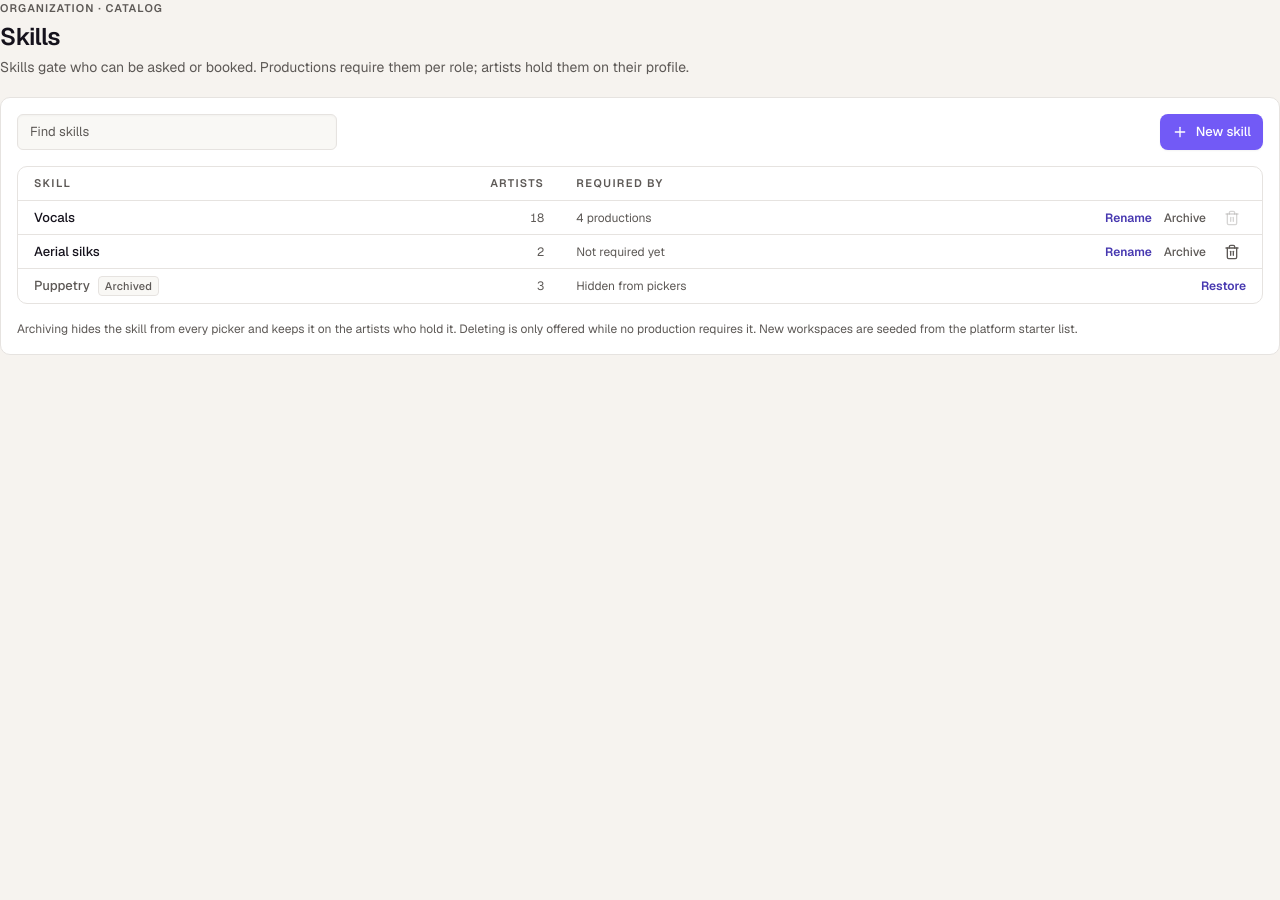
Test: SkillsTab › New skill opens a dialog; submitting a name issues a create and closes it
The image size is (1280, 900).
Step 1. Click the button "New skill" → (1211, 132), box [1160,114,1263,150]
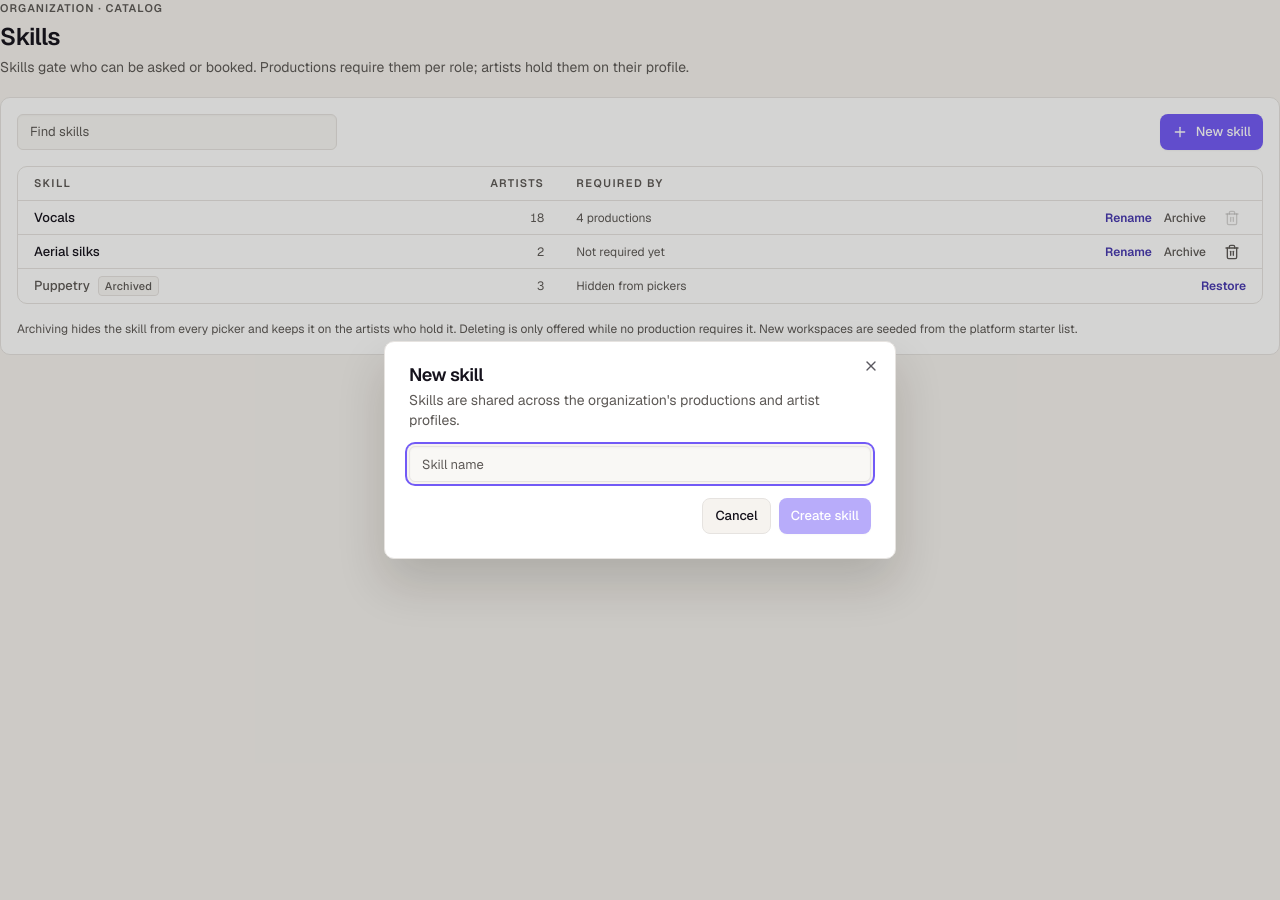
Expected: the heading "New skill" is shown, [409,363,483,386]
Step 2. Type "Stage combat" into the field labelled "Skill name" → (640, 464), box [409,446,871,482]
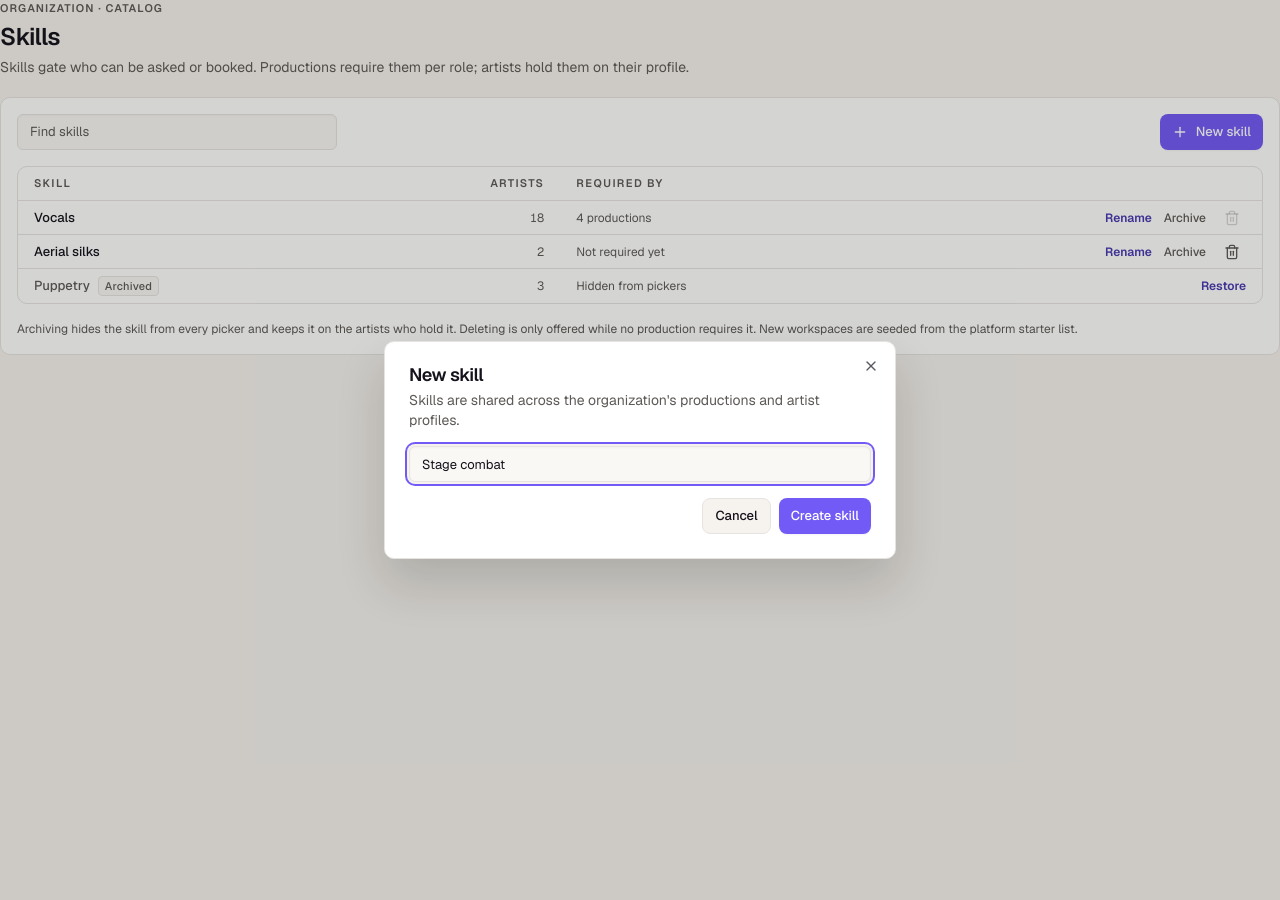
Step 3. Click the button "Create skill" → (825, 516), box [779,498,871,534]
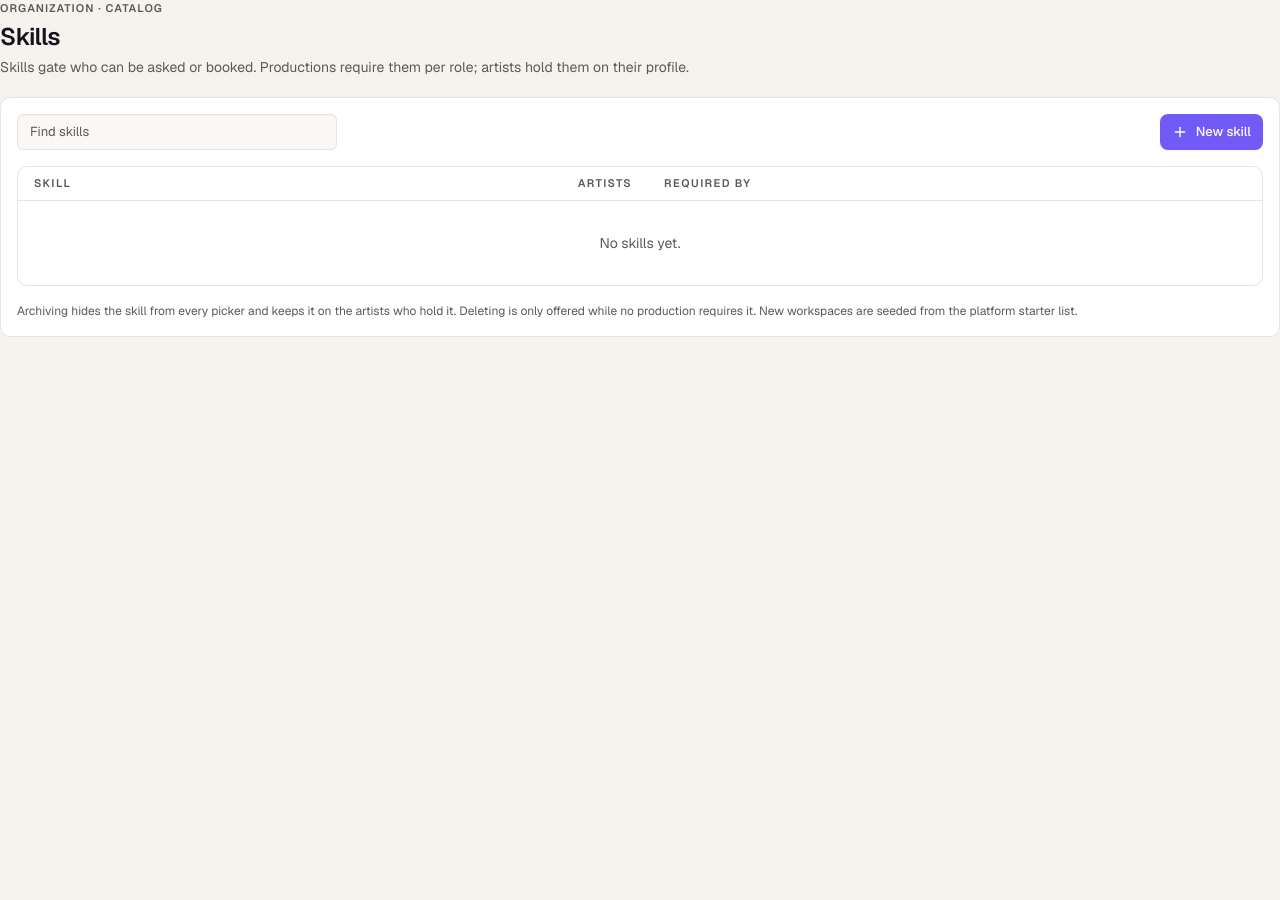
Expected: the dialog is gone
